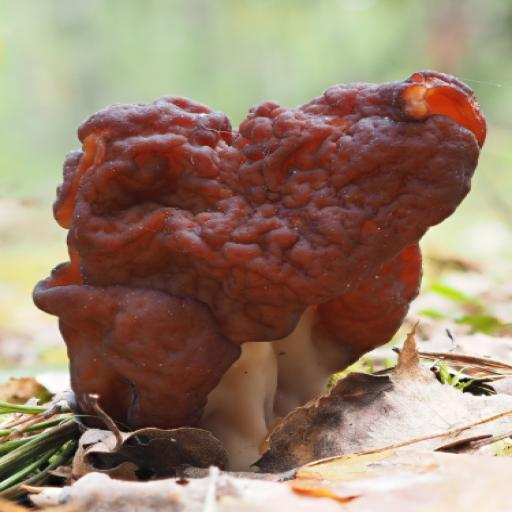False Morel: (46, 53, 478, 478)
